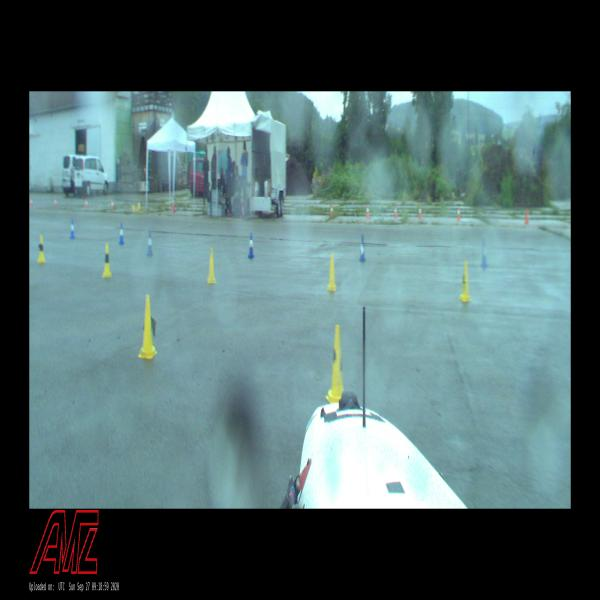blue_cone: (480, 239, 487, 267), (248, 232, 255, 258), (359, 235, 366, 261), (70, 219, 76, 239), (120, 223, 125, 244), (148, 232, 152, 255)
orange_cone: (457, 206, 461, 221), (418, 204, 422, 219), (366, 202, 369, 218), (330, 203, 333, 219), (394, 204, 397, 219), (85, 199, 88, 210), (111, 199, 114, 210), (54, 197, 57, 207), (30, 196, 32, 206)
yellow_cone: (325, 325, 343, 402), (138, 295, 158, 360), (458, 260, 473, 302), (328, 254, 338, 291), (102, 245, 112, 277), (207, 249, 216, 283), (38, 235, 46, 263)
